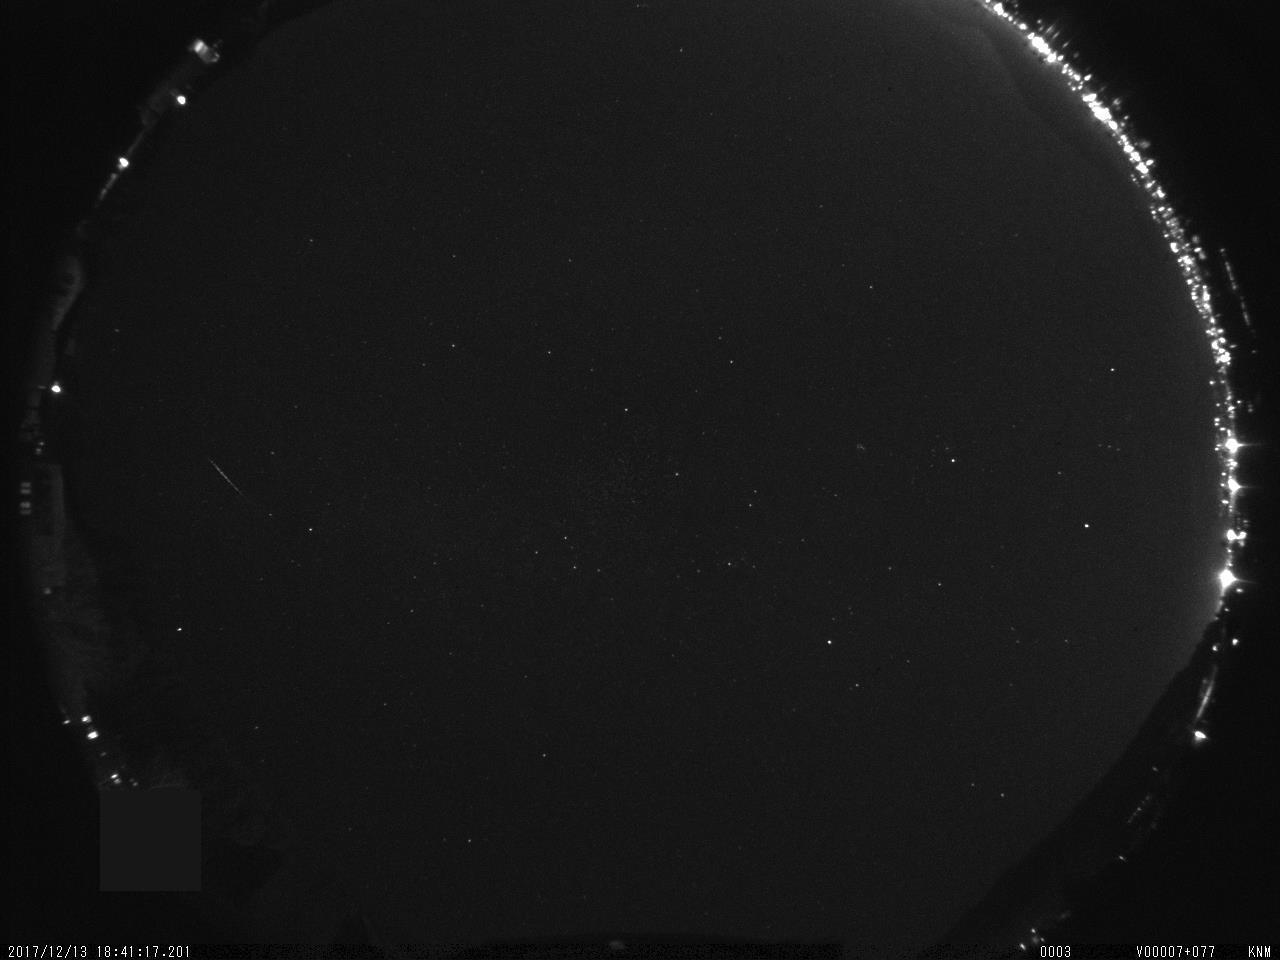Meteor: (203, 448, 251, 508)
